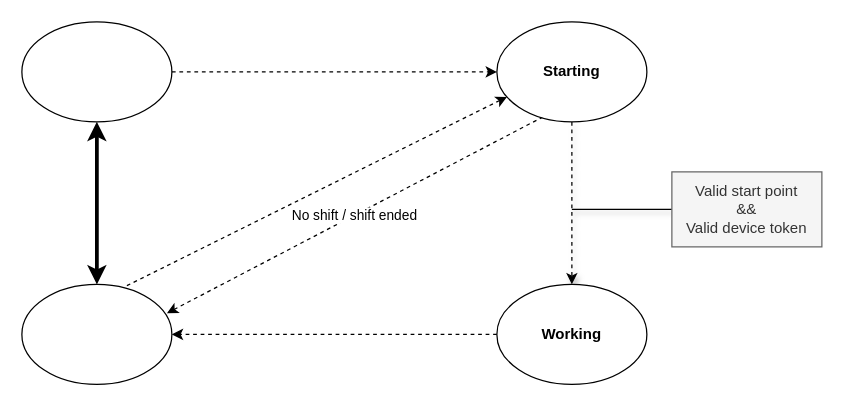
Image size: 844x406. Some labels were removed from this diagram. The centre of each missing label's shape, as x and y in pixels:
"Available" goes at point 96,71.
"Not Working" goes at point 96,333.
